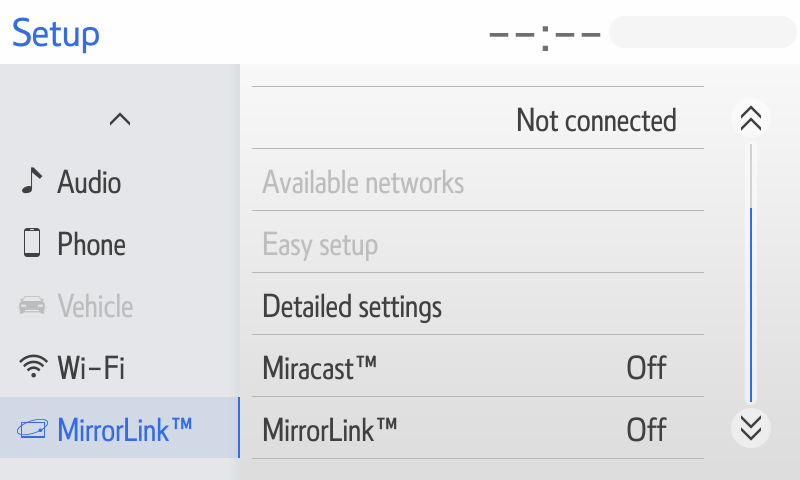touchPart: (248, 267, 708, 341), (249, 83, 706, 156), (248, 393, 707, 461), (248, 331, 706, 399), (14, 219, 137, 266), (9, 162, 140, 201), (8, 347, 131, 386), (730, 406, 776, 454), (728, 100, 771, 134), (98, 103, 142, 134)
untouchPart: (249, 206, 710, 279), (250, 144, 703, 217), (1, 394, 243, 461), (477, 10, 797, 55), (10, 287, 160, 322), (9, 14, 115, 59)
